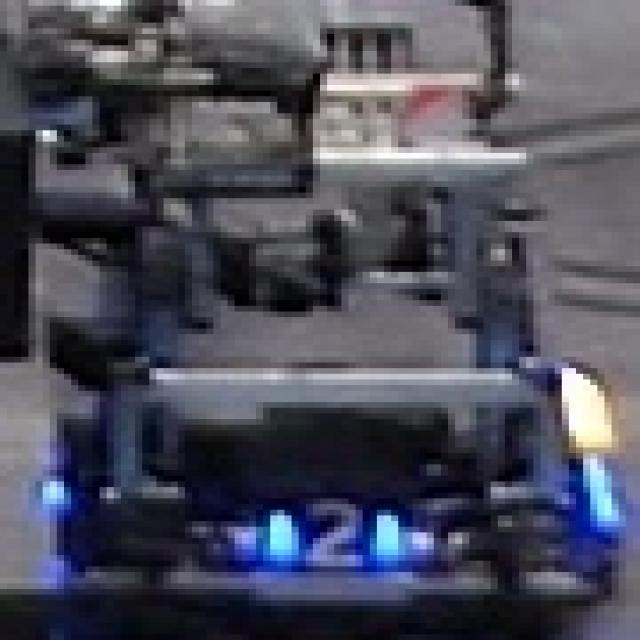B2: (256, 487, 405, 566)
